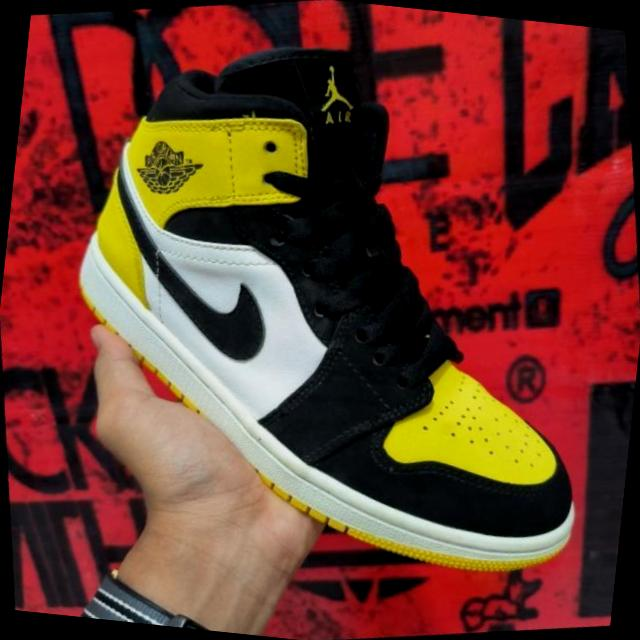nike_fake_jordan: (8, 0, 636, 640)
